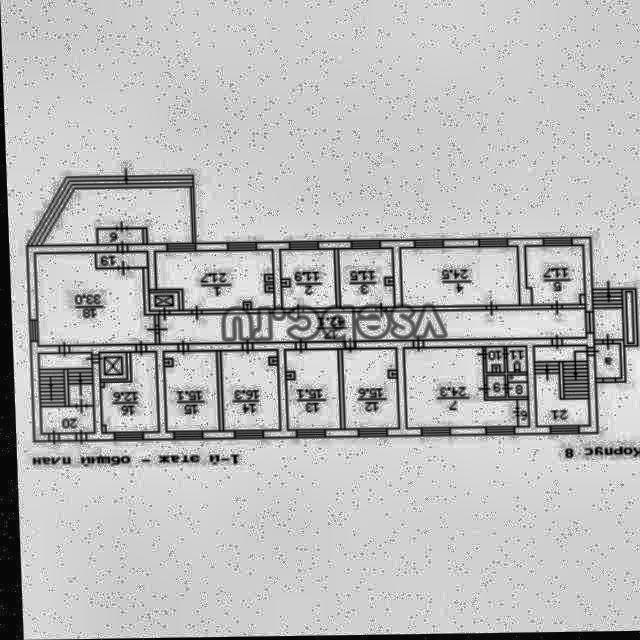room: (158, 311, 583, 343), (33, 251, 152, 346), (402, 349, 514, 429), (40, 189, 191, 246), (153, 251, 272, 311), (399, 249, 517, 308), (97, 352, 155, 434), (218, 351, 276, 433), (340, 349, 396, 432), (161, 351, 216, 434), (282, 350, 337, 432), (532, 348, 586, 429), (37, 353, 90, 435), (523, 247, 582, 307), (338, 249, 392, 310), (279, 250, 333, 310), (591, 292, 620, 342), (593, 346, 618, 381), (94, 253, 145, 269), (97, 354, 125, 381), (96, 230, 144, 245), (504, 348, 524, 375), (147, 294, 177, 311), (483, 349, 501, 375), (505, 377, 524, 399), (484, 377, 502, 399), (515, 402, 525, 429)
